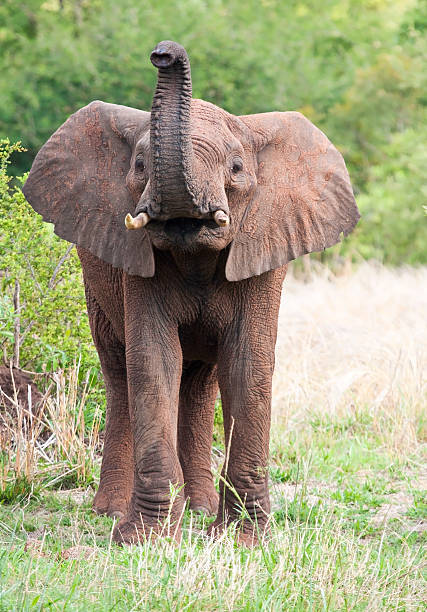africanelephant: (114, 57, 263, 277)
